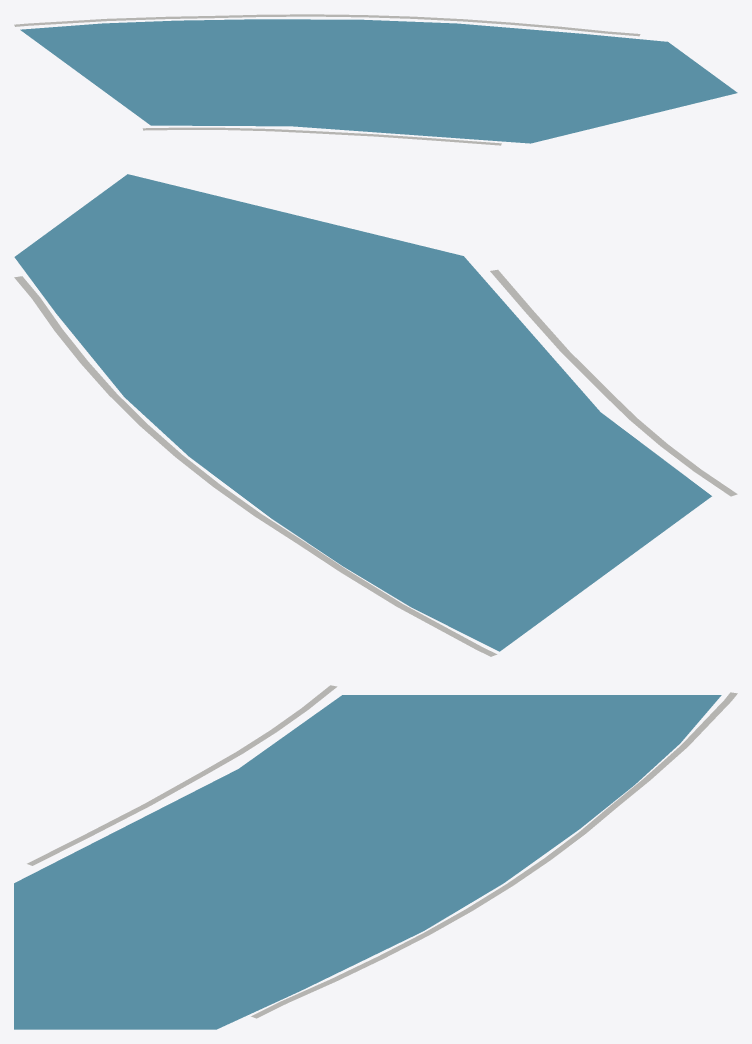
The model's file is tile_-9_6.glb.
The picture shows the model from 3 angles, top to bottom: view 1: azimuth 30°, elevation 25°; view 2: azimuth 150°, elevation 25°; view 3: azimuth 270°, elevation 25°; orthographic projection. The views are drawn at different scales.
Parts seen in each view (by area): view 1: nature_water, roads_sidewalk; view 2: nature_water, roads_sidewalk; view 3: nature_water, roads_sidewalk.
Part boxes in pixels (x1=…): nature_water: x1=20, y1=19, x2=737, y2=143; roads_sidewalk: x1=14, y1=14, x2=640, y2=145; nature_water: x1=14, y1=174, x2=711, y2=651; roads_sidewalk: x1=14, y1=269, x2=737, y2=656; nature_water: x1=14, y1=695, x2=721, y2=1029; roads_sidewalk: x1=27, y1=685, x2=737, y2=1018.
Size of the model in its own units: 256 by 0.5 by 229.
